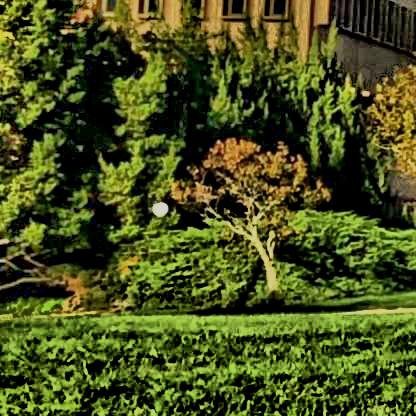golfball: (149, 198, 166, 215)
